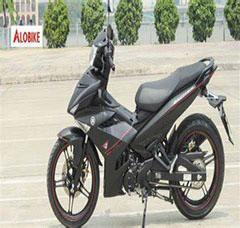motorcycle: (12, 2, 240, 224)
